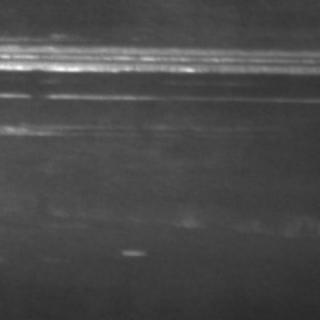scratches: (0, 32, 318, 76), (2, 86, 182, 110)
